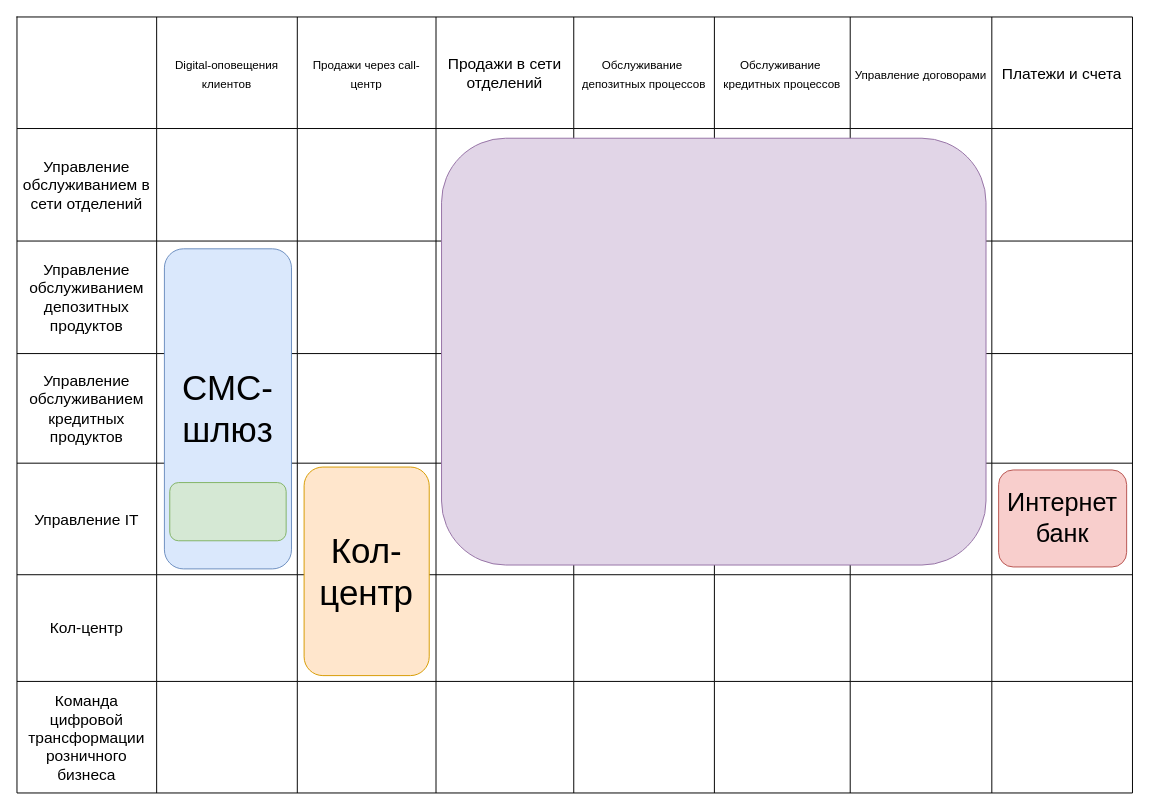
The diagram is 1149 pixels wide and 810 high, and some of its shapes have lost their labels. The shapes that lost their labels are listed below. From the top down, each one's box as (x1, y1, x2, y2) in pixels, then its label:
(441, 137, 986, 565): АБС
(169, 482, 286, 541): Сайт
